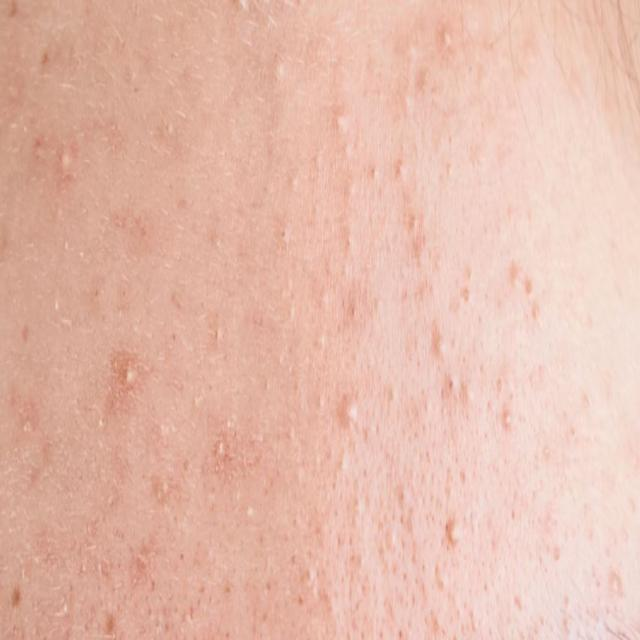fungal: (27, 19, 620, 620)
